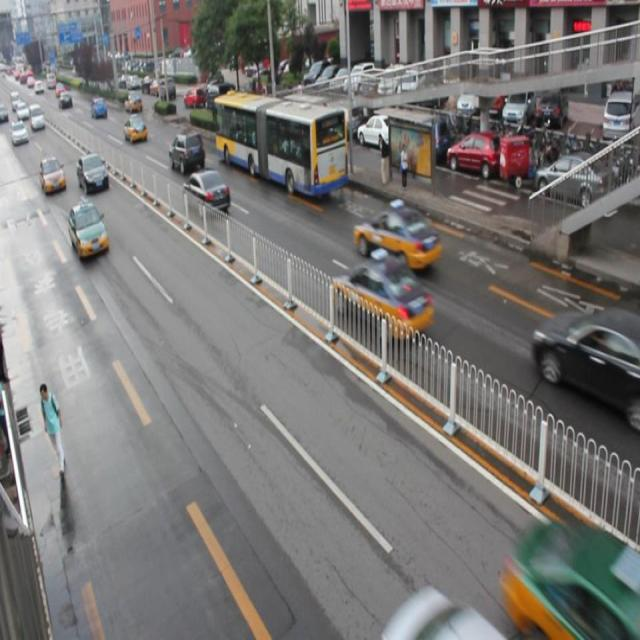car: (508, 524, 640, 640), (530, 306, 640, 420), (330, 250, 431, 340), (387, 586, 506, 640), (353, 199, 440, 270), (182, 169, 230, 216), (69, 201, 108, 258), (168, 130, 204, 174), (78, 154, 109, 193), (40, 159, 67, 194), (124, 115, 146, 143)
van: (214, 90, 347, 198)
